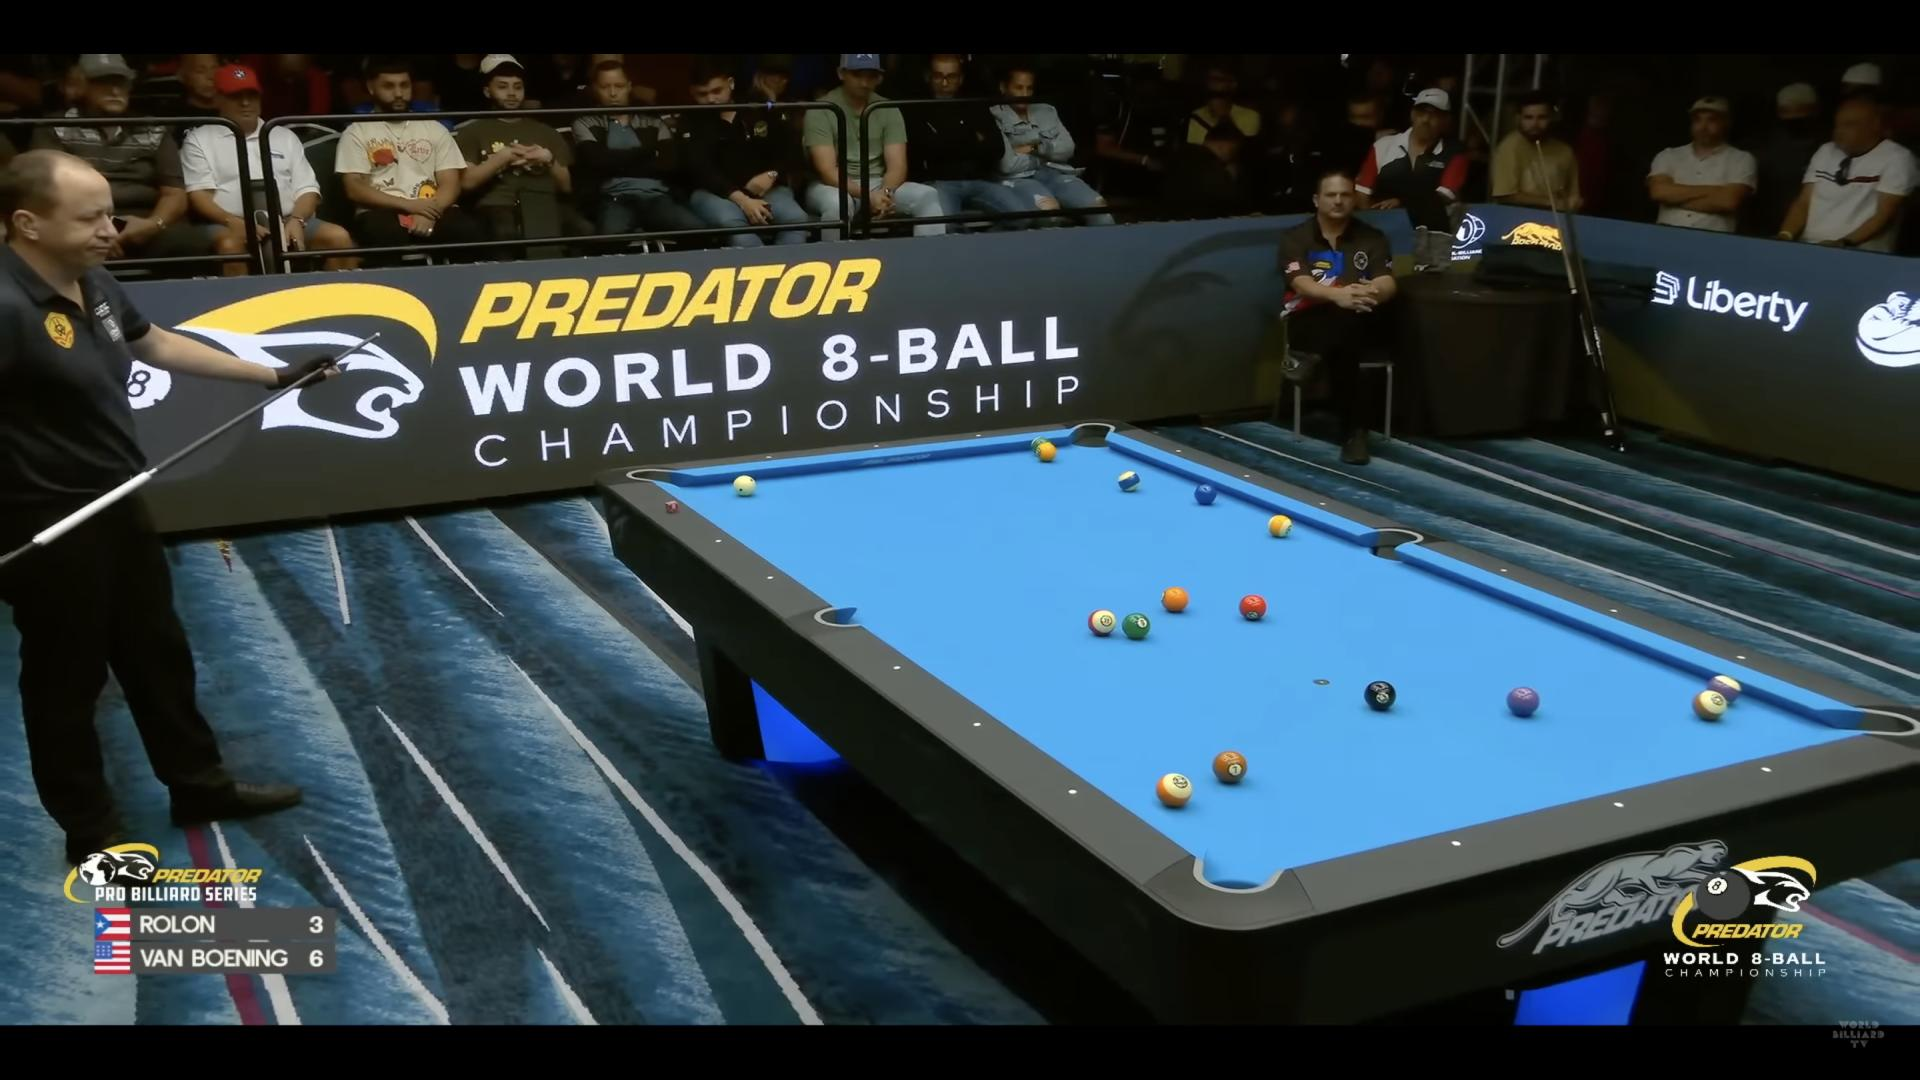Black: (1364, 680, 1396, 711)
Cue: (735, 475, 756, 496)
Dot: (1610, 798, 1625, 811), (1064, 785, 1079, 798), (969, 719, 984, 732), (972, 429, 986, 442), (1240, 469, 1254, 483), (1315, 497, 1329, 510), (1449, 837, 1462, 851), (1759, 764, 1772, 777), (1734, 651, 1747, 665), (1607, 604, 1621, 617), (1497, 563, 1510, 576), (889, 661, 902, 674), (764, 570, 777, 583), (712, 535, 725, 549), (762, 450, 775, 463), (870, 439, 884, 452), (1171, 444, 1184, 458)
Solid: (1212, 752, 1247, 783), (1506, 687, 1540, 716), (1122, 613, 1151, 640), (1240, 593, 1269, 620), (1160, 587, 1189, 612), (1193, 484, 1217, 504), (1036, 442, 1056, 462)
Striped: (1155, 773, 1192, 807), (1692, 690, 1726, 720), (1706, 675, 1742, 704), (1088, 608, 1117, 636), (1267, 514, 1292, 537), (1117, 469, 1141, 492), (1031, 436, 1050, 454)
